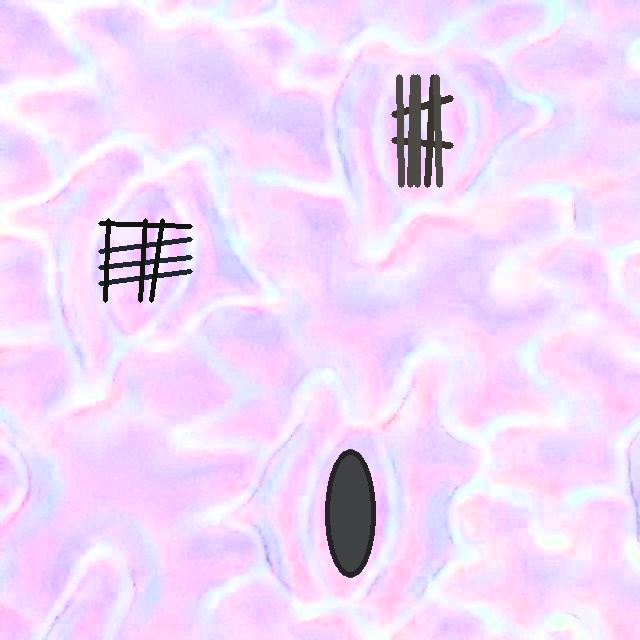open: (98, 218, 192, 302), (391, 74, 453, 187), (324, 450, 375, 576)
